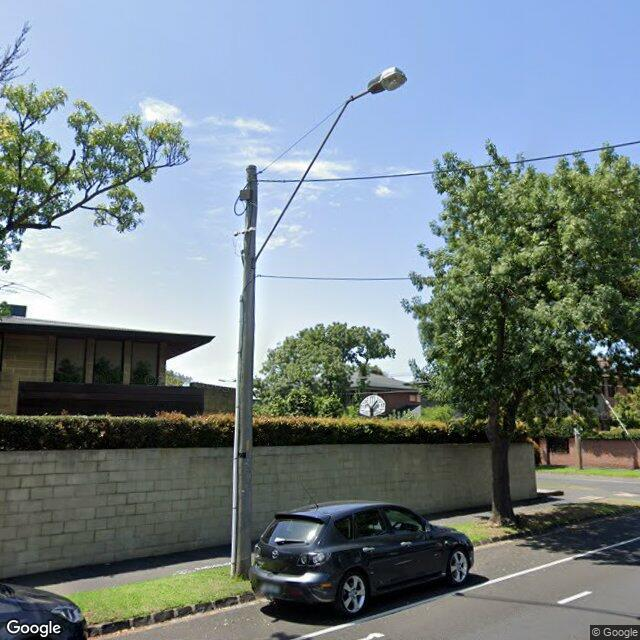streetlight: (253, 66, 409, 264)
timber-pole: (231, 165, 260, 579)
